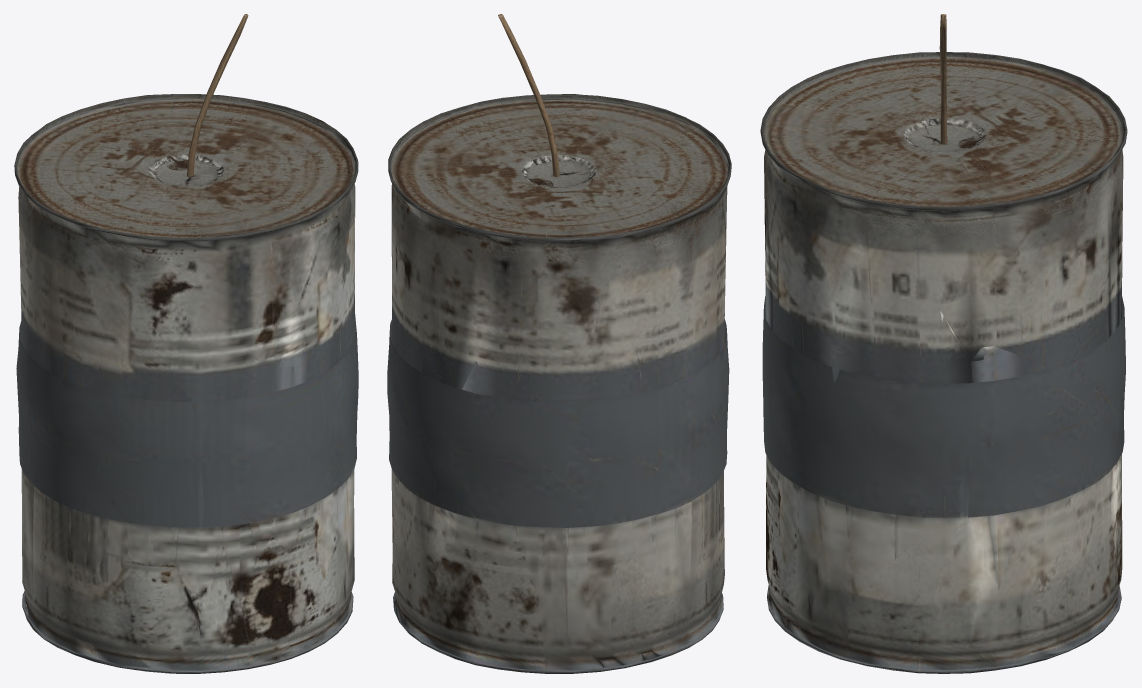
Rendered from frag.glb.
The picture shows the model from 3 angles, left to right: view 1: azimuth 30°, elevation 25°; view 2: azimuth 150°, elevation 25°; view 3: azimuth 270°, elevation 25°; orthographic projection. The views are drawn at different scales.
Visible parts, largest first — view 1: Mesh_0; view 2: Mesh_0; view 3: Mesh_0.
Part boxes in pixels (bbox=[...]): Mesh_0: bbox=[14, 14, 358, 673]; Mesh_0: bbox=[387, 14, 731, 673]; Mesh_0: bbox=[760, 14, 1127, 673].
Size of the model in its own units: 0.0874 by 0.16 by 0.0866.
1 material, 1 textured.
